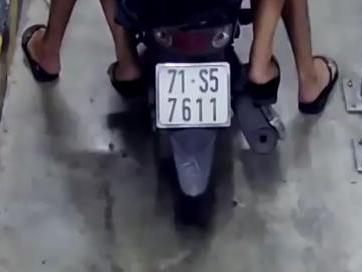num_plate: (156, 62, 232, 128)
